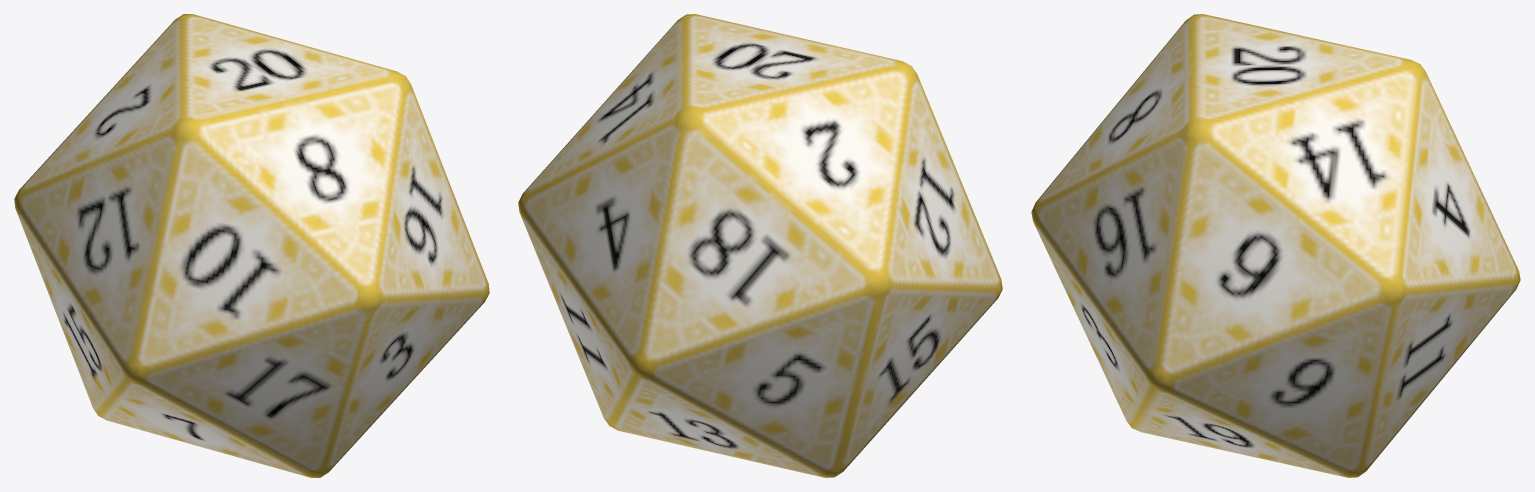
The model's file is dice1_256.glb.
3 views of the same model, side by side, from view 1: azimuth 30°, elevation 25°; view 2: azimuth 150°, elevation 25°; view 3: azimuth 270°, elevation 25° (orthographic).
Visible parts, largest first — view 1: GeoSphere003BBig_Export; view 2: GeoSphere003BBig_Export; view 3: GeoSphere003BBig_Export.
Part boxes in pixels (x1=…): GeoSphere003BBig_Export: x1=14, y1=14, x2=489, y2=477; GeoSphere003BBig_Export: x1=518, y1=14, x2=1002, y2=477; GeoSphere003BBig_Export: x1=1031, y1=14, x2=1520, y2=477.
Bounding box in the file's own units: 0.5647 × 0.5422 × 0.6465.
Materials: 1 (1 with a texture image).
